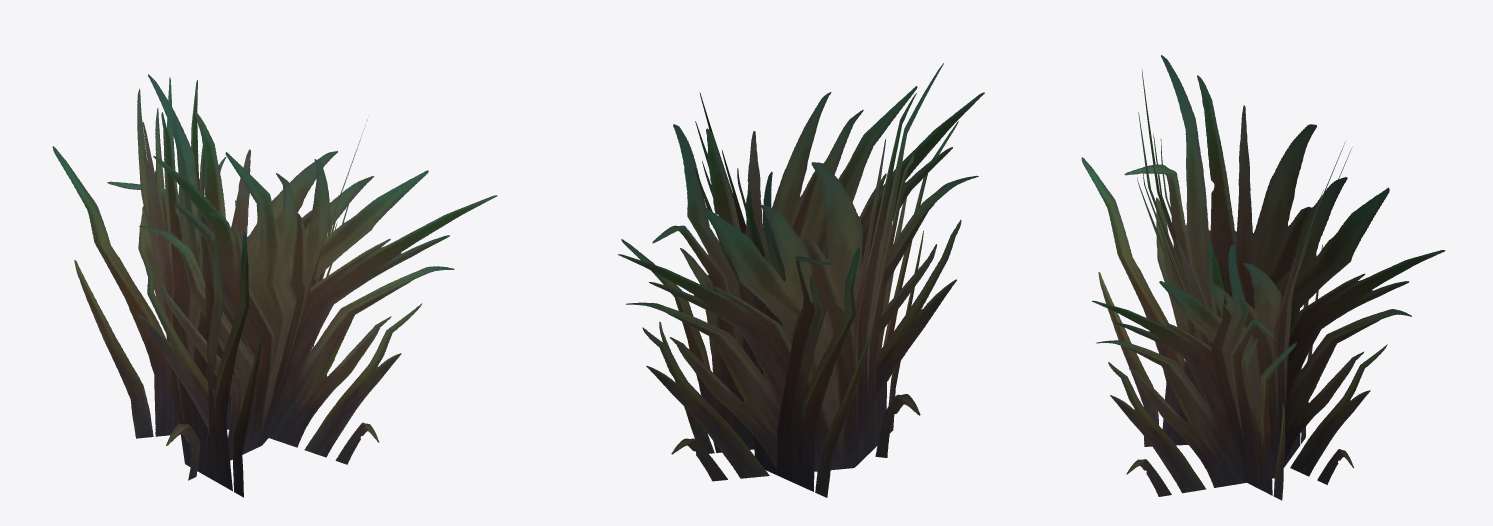
The model's file is sholazar_grassa_dark.obj.
The picture shows the model from 3 angles, left to right: view 1: azimuth 30°, elevation 25°; view 2: azimuth 150°, elevation 25°; view 3: azimuth 270°, elevation 25°; orthographic projection. The views are drawn at different scales.
Parts seen in each view (by area): view 1: sholazar_grassa_dark; view 2: sholazar_grassa_dark; view 3: sholazar_grassa_dark.
Boxes of the visible parts, x1,y1,x2,y2 form: sholazar_grassa_dark: (52,74,497,497); sholazar_grassa_dark: (618,63,984,497); sholazar_grassa_dark: (1081,55,1445,500).
Bounding box in the file's own units: 3.19 × 3.3 × 3.3.
1 material, 1 textured.
